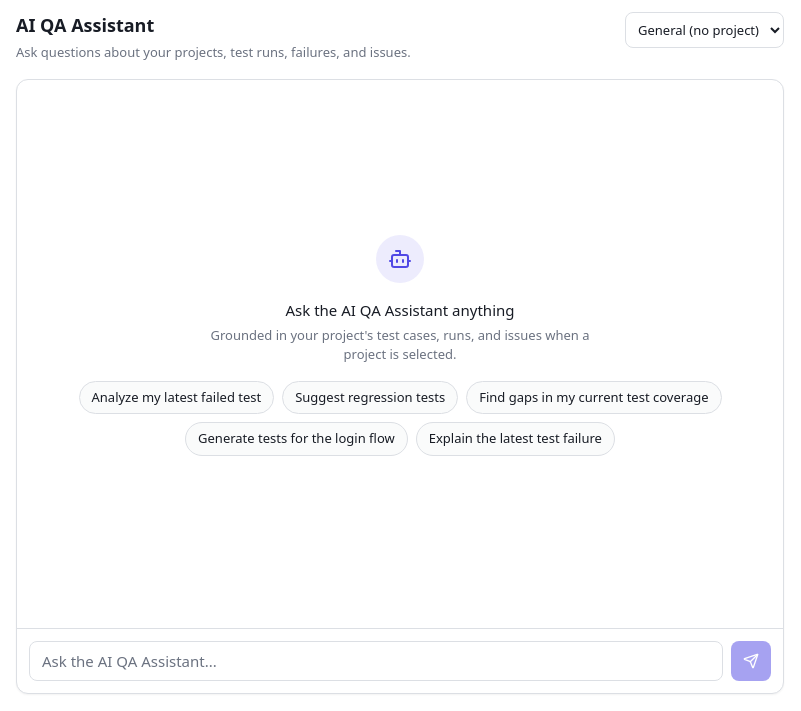
AssistantPage › keeps the same project selected for the rest of a conversation and sends it with each message
The image size is (801, 711).
Select "Storefront" in the dropdown named "Project context". click: (704, 30)
box: left=625, top=12, right=784, bottom=48
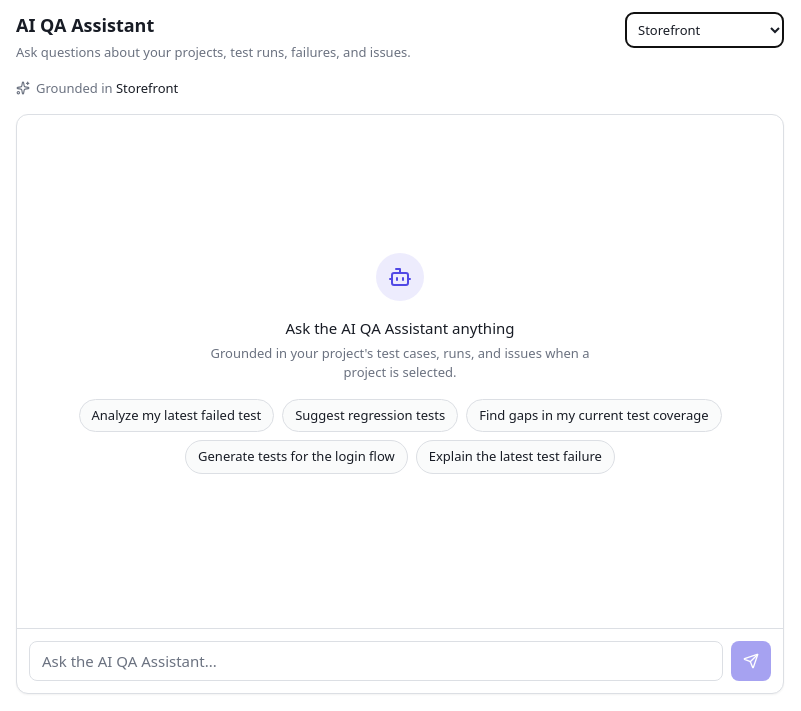
Type "What's risky here?" into the field named "Message". click: (376, 661)
box: left=29, top=640, right=723, bottom=681
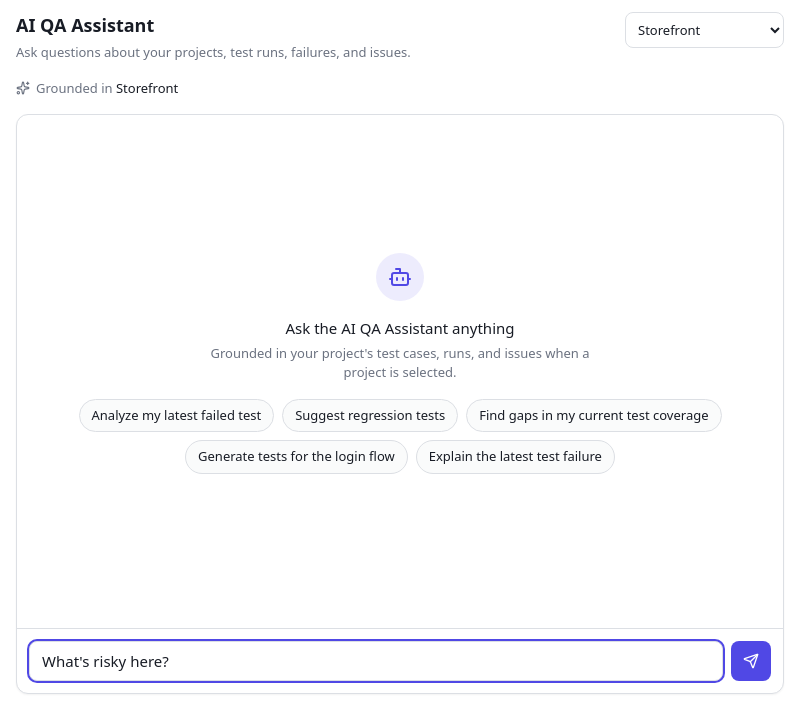
Click the button named "Send message". click: (751, 661)
box: left=731, top=641, right=771, bottom=681
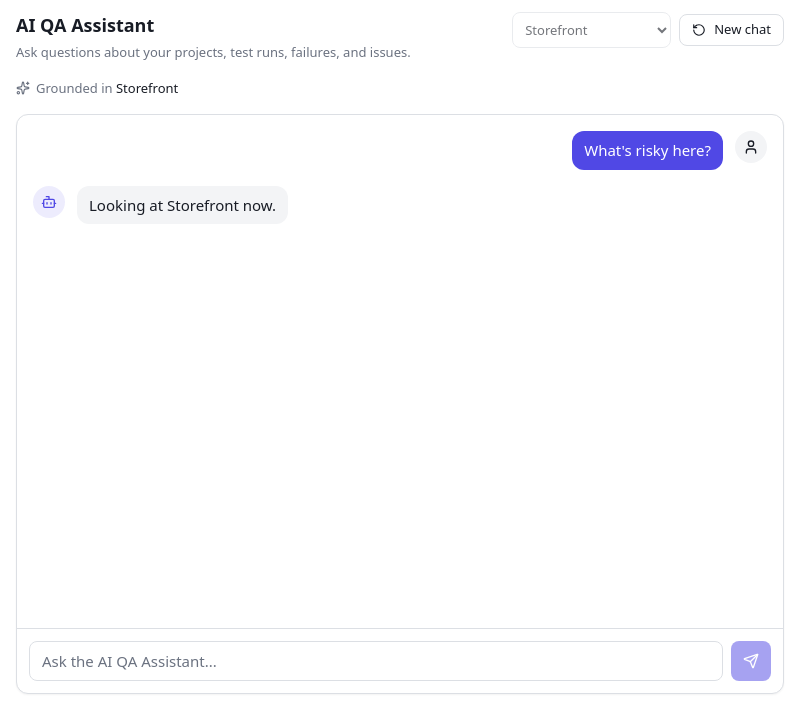
Result: the text "Storefront" is shown at left=116, top=78, right=178, bottom=96
Result: the text "Looking at Storefront now." is shown at left=89, top=194, right=276, bottom=216
Result: the dropdown named "Project context" is disabled at left=512, top=12, right=671, bottom=48
